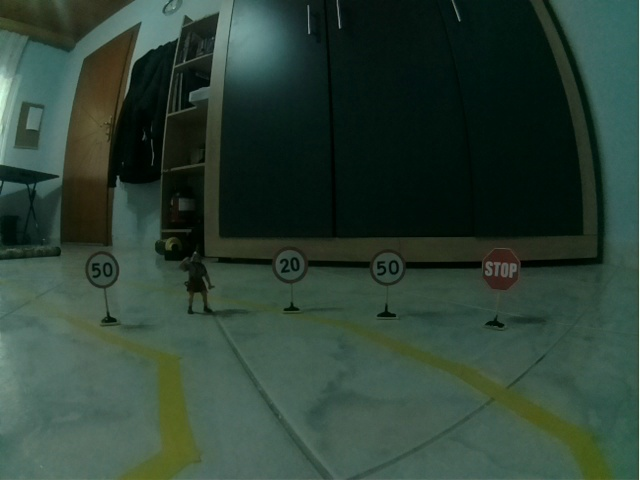Person: (178, 245, 215, 314)
Speed Limit 20: (272, 246, 309, 284)
Speed Limit 50: (369, 248, 407, 287), (85, 251, 120, 289)
Stop: (481, 248, 522, 292)
